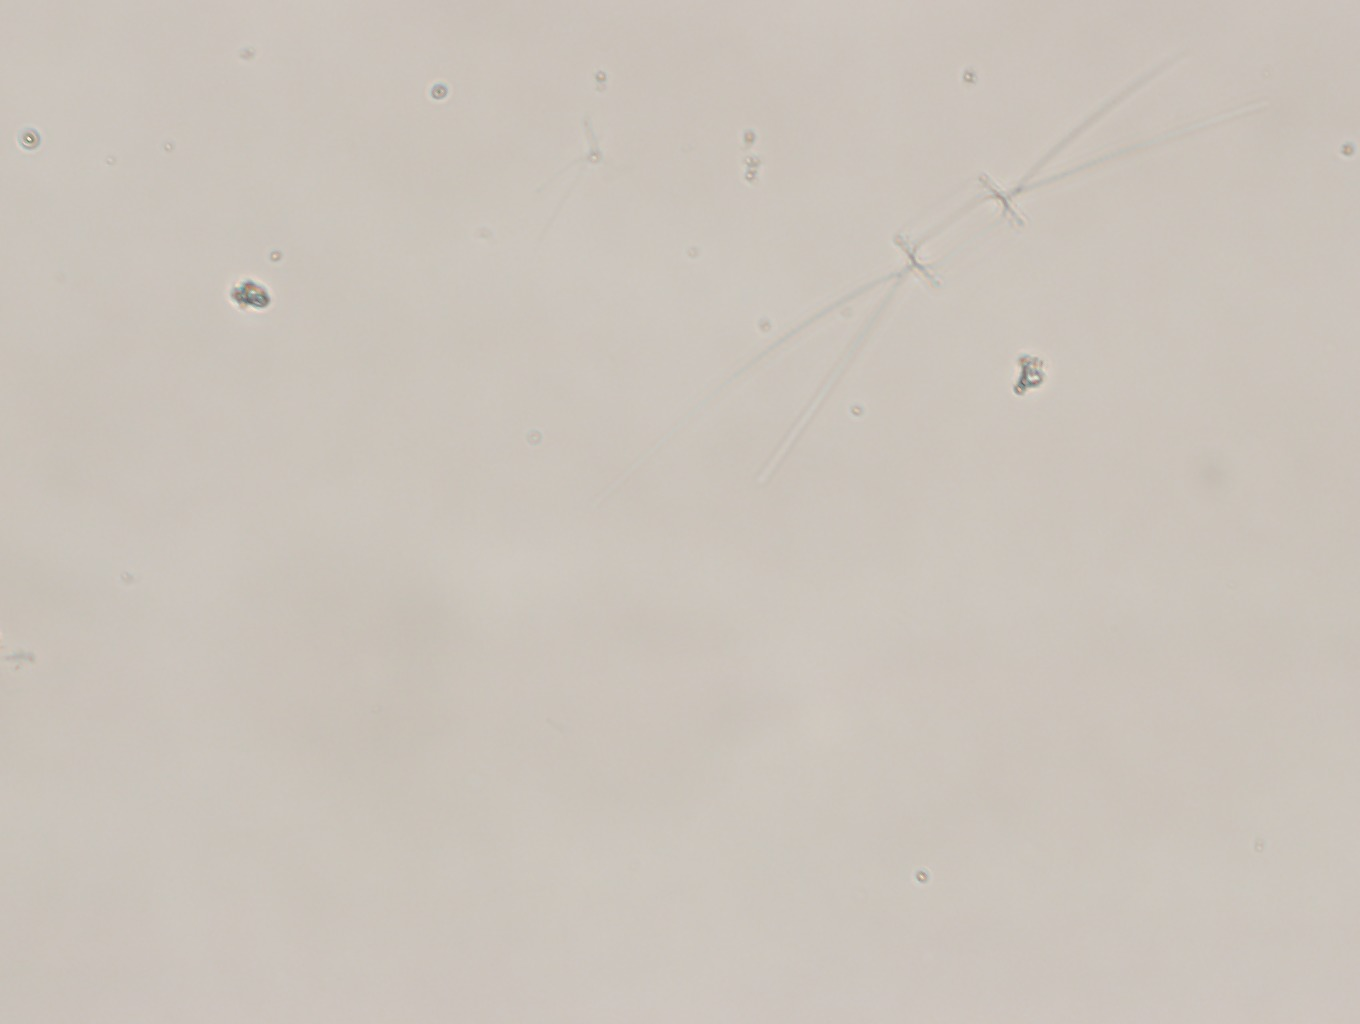chaetoceros: (716, 32, 1282, 500)
